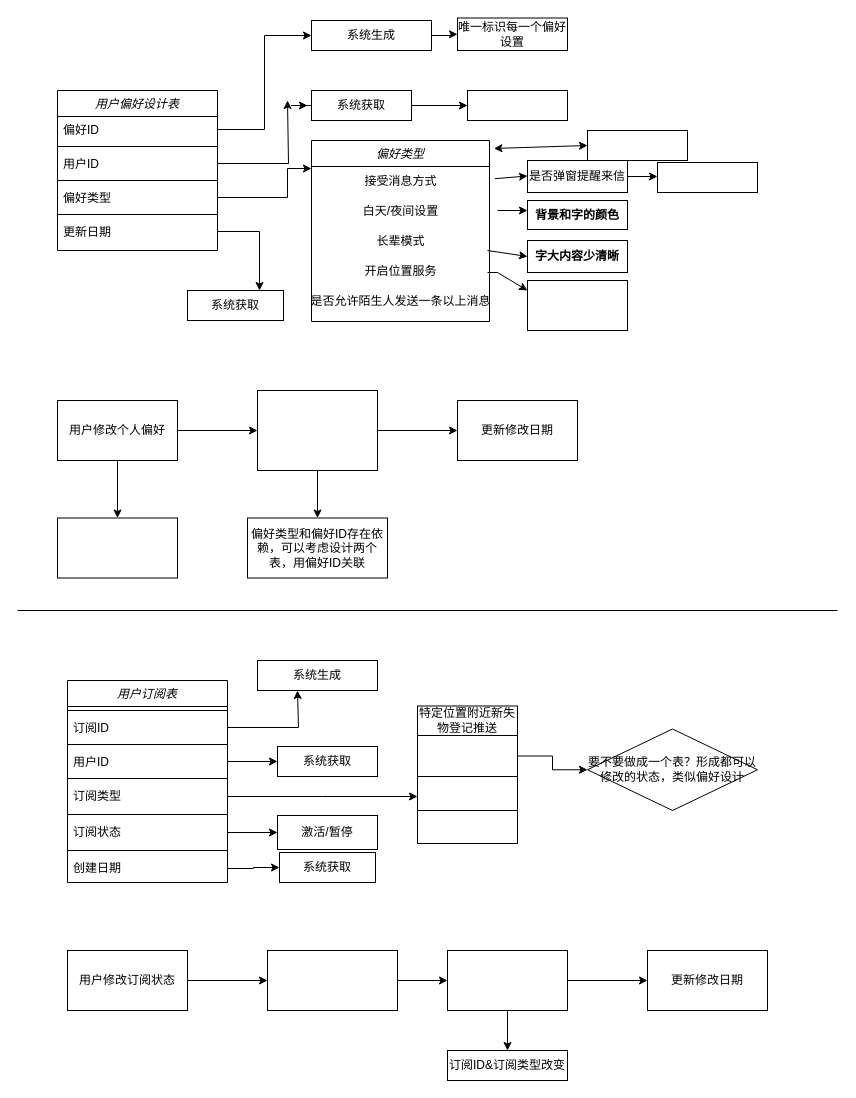
Image size: 856x1098. Some labels were removed from this diagram. Here are the shapes that lost their labels. From the top down, the centre of each, then its label:
At (517,105): "关联用户，确定是谁的偏好设置".
At (637,145): "用户指定".
At (707,177): "考虑关联订阅表？".
At (577,305): "推送附近的寻物启事/把你发布的推送给附近的人".
At (317,430): "找到修改后对应的偏好ID，若没有则新建一个偏好ID，进行用户ID和偏好ID的重新匹配".
At (117,547): "实际上修改的是 偏好类型表".
At (467,755): "特定物品类别的新失物登记".
At (467,793): "用户消息弹窗".
At (467,827): "关注失物状态改变弹窗".
At (332,980): "暂停（默认激活状态）".
At (507,980): "订阅状态栏目改变".
